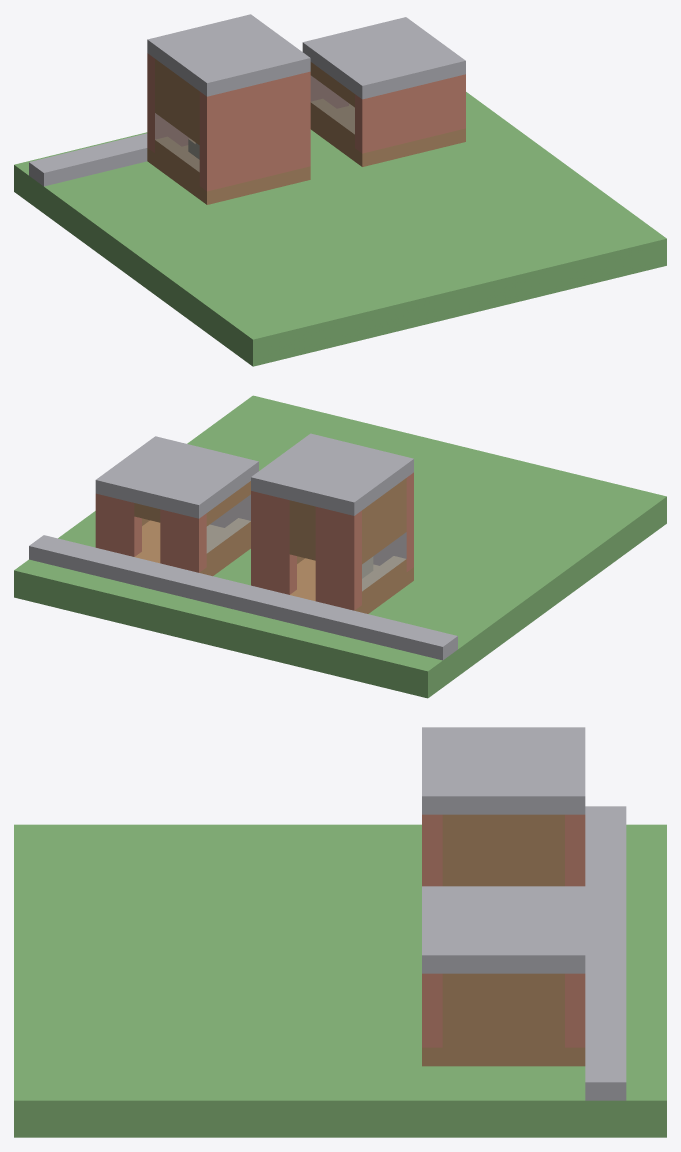
The picture shows the model from 3 angles, top to bottom: view 1: azimuth 30°, elevation 25°; view 2: azimuth 150°, elevation 25°; view 3: azimuth 270°, elevation 25°; orthographic projection. The views are drawn at different scales.
Visible parts, largest first — view 1: part_shop_01_north, terrain_3_3, terrain_3_0, terrain_3_2, terrain_3_1, part_shop_01_roof, part_hall_01_roof, terrain_2_3, terrain_1_3, terrain_2_1, terrain_2_2, terrain_2_0 (+16 smaller); view 2: road_main, part_shop_01_roof, part_hall_01_roof, terrain_0_3, terrain_1_3, terrain_2_3, terrain_3_3, terrain_3_2, terrain_3_0, terrain_0_0, terrain_0_1, part_shop_01_south_right (+19 smaller); view 3: terrain_2_0, terrain_3_0, terrain_1_0, part_hall_01_roof, part_shop_01_roof, road_main, terrain_0_0, terrain_2_1, terrain_2_2, terrain_2_3, terrain_3_1, terrain_3_2 (+14 smaller).
Part boxes in pixels (<box>): part_shop_01_north: <box>199,71,310,191</box>; terrain_3_3: <box>193,270,356,366</box>; terrain_3_0: <box>504,195,666,290</box>; terrain_3_2: <box>297,245,459,341</box>; terrain_3_1: <box>400,220,563,315</box>; part_shop_01_roof: <box>147,14,310,96</box>; part_hall_01_roof: <box>302,17,465,99</box>; terrain_2_3: <box>133,227,296,322</box>; terrain_1_3: <box>73,183,236,278</box>; terrain_2_1: <box>341,176,503,245</box>; terrain_2_2: <box>237,201,399,270</box>; terrain_2_0: <box>444,151,606,219</box>; road_main: <box>29,535,457,660</box>; part_shop_01_roof: <box>251,433,413,515</box>; part_hall_01_roof: <box>95,436,258,518</box>; terrain_0_3: <box>324,602,487,698</box>; terrain_1_3: <box>384,559,547,654</box>; terrain_2_3: <box>444,515,607,610</box>; terrain_3_3: <box>504,471,666,566</box>; terrain_3_2: <box>414,446,562,514</box>; terrain_3_0: <box>193,395,355,459</box>; terrain_0_0: <box>14,527,131,622</box>; terrain_0_1: <box>117,564,250,647</box>; part_shop_01_south_right: <box>315,506,361,610</box>; terrain_2_0: <box>177,1031,340,1137</box>; terrain_3_0: <box>14,1031,177,1137</box>; terrain_1_0: <box>340,1031,503,1137</box>; part_hall_01_roof: <box>422,886,585,973</box>; part_shop_01_roof: <box>422,727,585,814</box>; road_main: <box>585,806,626,1100</box>; terrain_0_0: <box>503,1031,666,1137</box>; terrain_2_1: <box>177,962,340,1031</box>; terrain_2_2: <box>177,893,340,962</box>; terrain_2_3: <box>177,824,340,893</box>; terrain_3_1: <box>14,962,177,1031</box>; terrain_3_2: <box>14,893,177,962</box>.
Bounding box in the file's own units: 32 × 11 × 32.
